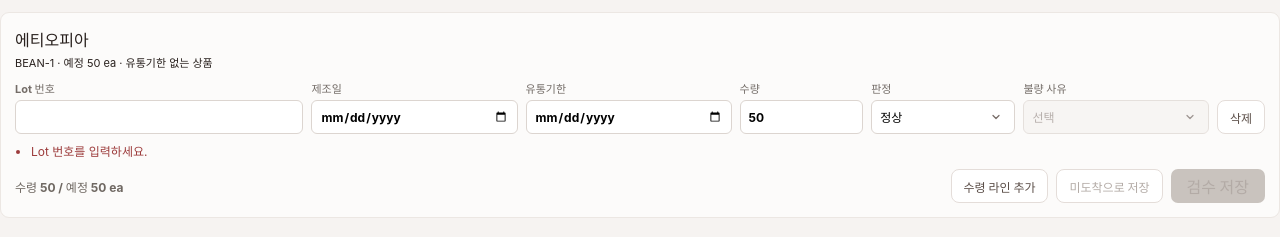
Test: InboundReceiptsForm › 수량 합이 예정 수량을 넘으면 저장할 수 없다
Type "LOT-1" into the field labelled "Lot 번호".
click(159, 117); type("LOT-1")  # box 15,100 -> 304,134
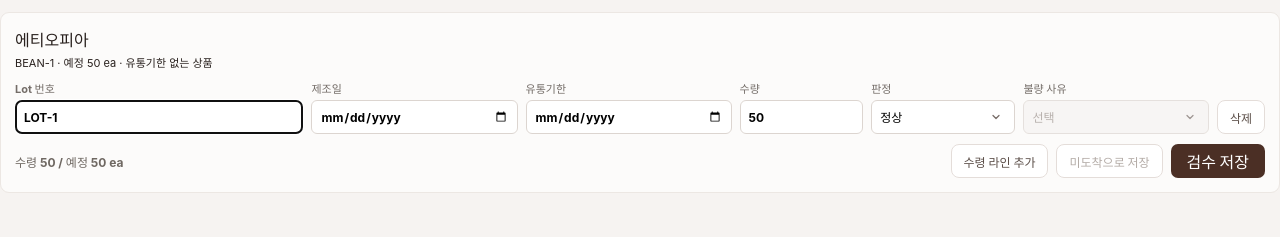
Replace the text in the number field labelled "수량" with "51" at (801, 117), box 740,100 -> 863,134
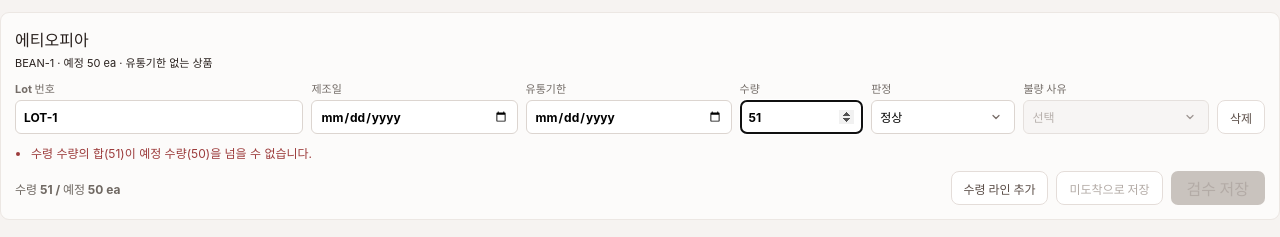
Now the button "검수 저장" is disabled, box 1171,171 -> 1265,205
Now the list item "수령 수량의 합(51)이 예정 수량(50)을 넘을 수 없습니다." is shown, box 31,146 -> 312,161
